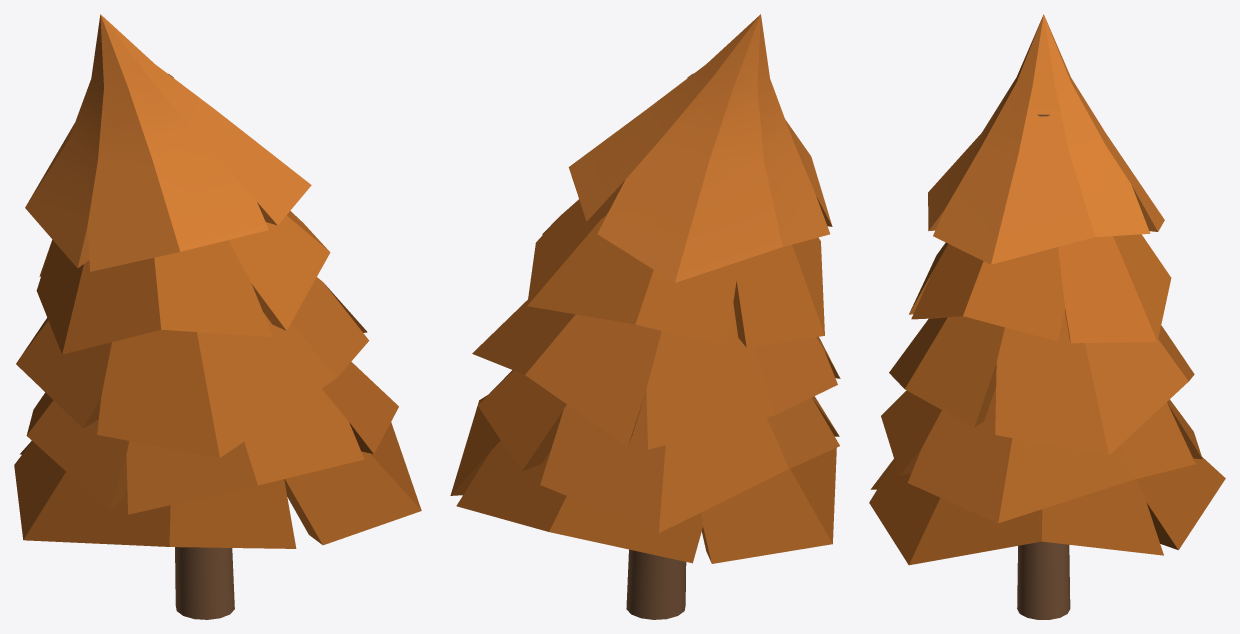
The model's file is Spruce_Orange_Thick_2.fbx.
3 renders of one model, left to right at view 1: azimuth 30°, elevation 25°; view 2: azimuth 150°, elevation 25°; view 3: azimuth 270°, elevation 25°, orthographic. The views are drawn at different scales.
Visible parts, largest first — view 1: Cylinder.430, Cylinder.431, Cylinder.434, Cylinder.432, Cylinder.433, Cylinder.435; view 2: Cylinder.430, Cylinder.431, Cylinder.433, Cylinder.432, Cylinder.434, Cylinder.435; view 3: Cylinder.430, Cylinder.431, Cylinder.433, Cylinder.432, Cylinder.434, Cylinder.435.
Boxes of the visible parts, x1,y1,x2,y2 form: Cylinder.430: (25, 14, 311, 271); Cylinder.431: (16, 277, 369, 457); Cylinder.434: (14, 422, 421, 548); Cylinder.432: (36, 211, 330, 354); Cylinder.433: (26, 361, 398, 514); Cylinder.435: (168, 73, 234, 619); Cylinder.430: (568, 14, 832, 282); Cylinder.431: (472, 300, 840, 449); Cylinder.433: (478, 370, 839, 533); Cylinder.432: (527, 199, 824, 347); Cylinder.434: (450, 394, 836, 563); Cylinder.435: (626, 73, 693, 619); Cylinder.430: (928, 14, 1164, 264); Cylinder.431: (889, 310, 1194, 455); Cylinder.433: (881, 386, 1202, 523); Cylinder.432: (909, 234, 1171, 343); Cylinder.434: (869, 457, 1225, 565); Cylinder.435: (1017, 114, 1070, 619).
Bounding box in the file's own units: 343 × 568 × 334.
